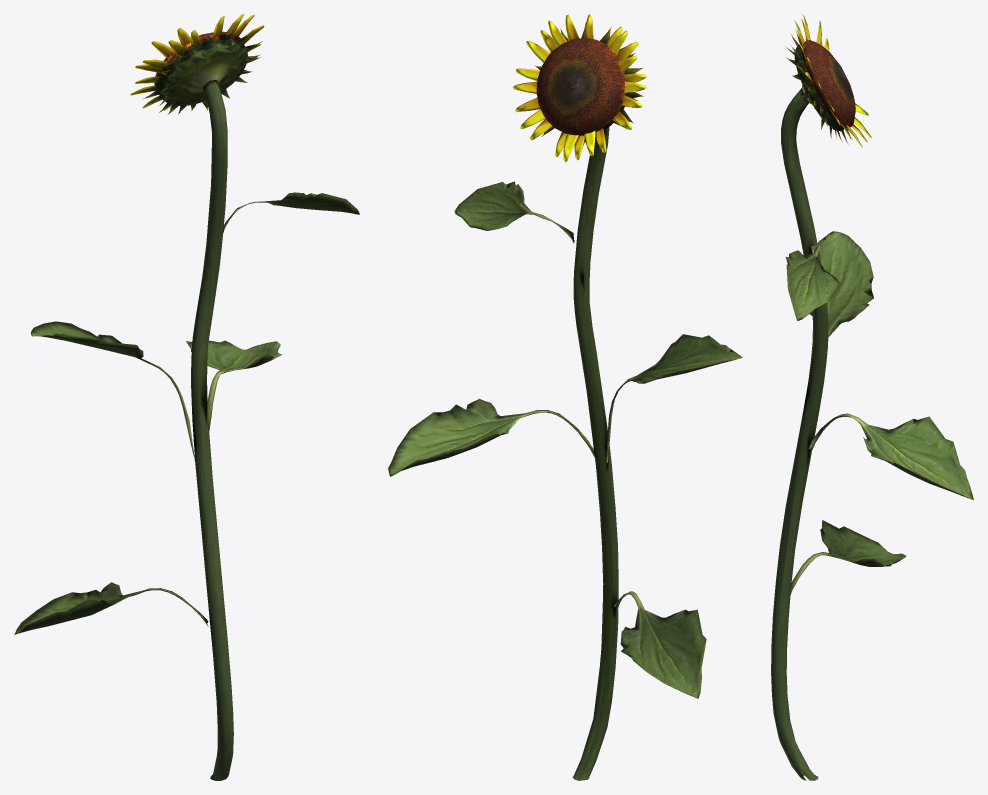
File: Girasole06.fbx
3 views of the same model, side by side, from view 1: azimuth 30°, elevation 25°; view 2: azimuth 150°, elevation 25°; view 3: azimuth 270°, elevation 25° (orthographic). The views are drawn at different scales.
Parts seen in each view (by area): view 1: Girasole06; view 2: Girasole06; view 3: Girasole06.
Part boxes in pixels (box(x1,y1,x2,y2)): Girasole06: box(14, 14, 359, 780); Girasole06: box(388, 14, 742, 780); Girasole06: box(771, 14, 973, 780).
Size of the model in its own units: 28.39 by 67.15 by 16.51.
